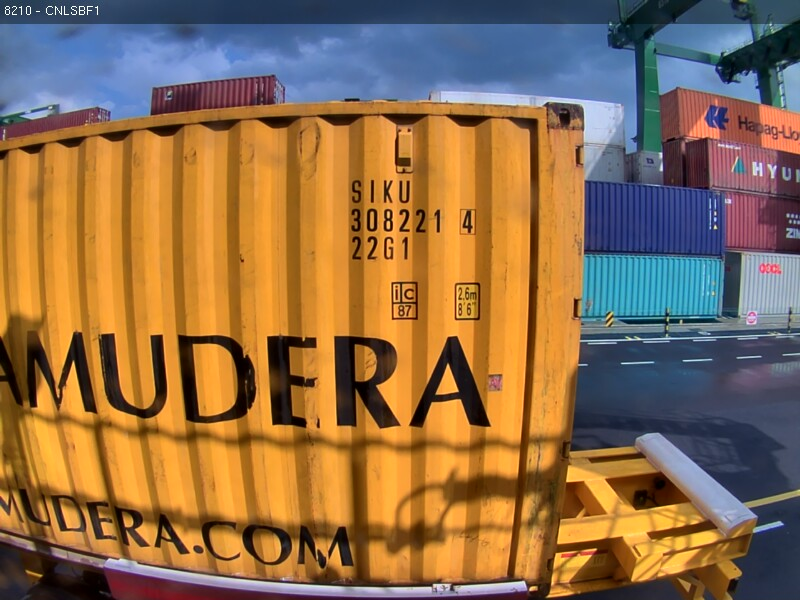container_no_door: (241, 96, 585, 599)
